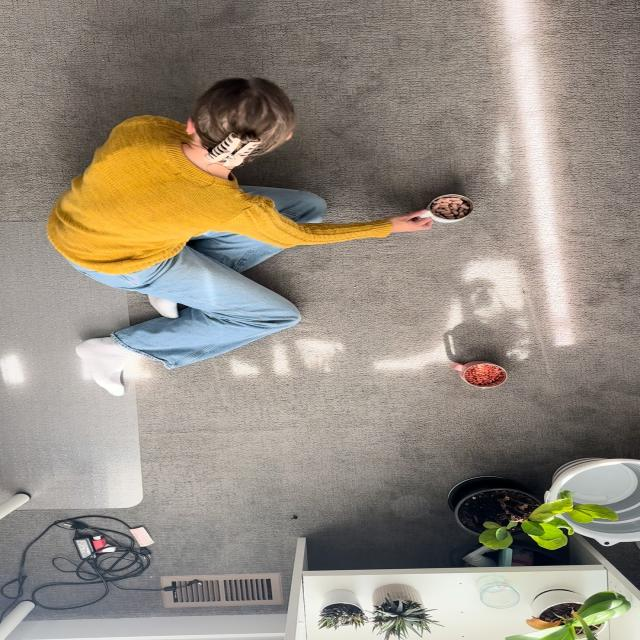IBC: (419, 193, 473, 224), (450, 361, 507, 388)
